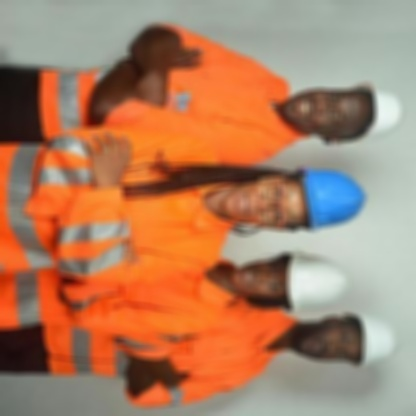blue: (293, 161, 372, 237)
vest: (0, 129, 228, 286), (30, 33, 290, 165), (34, 304, 296, 410), (5, 260, 235, 340)
white: (345, 76, 408, 148), (281, 248, 351, 312), (342, 307, 404, 375)
